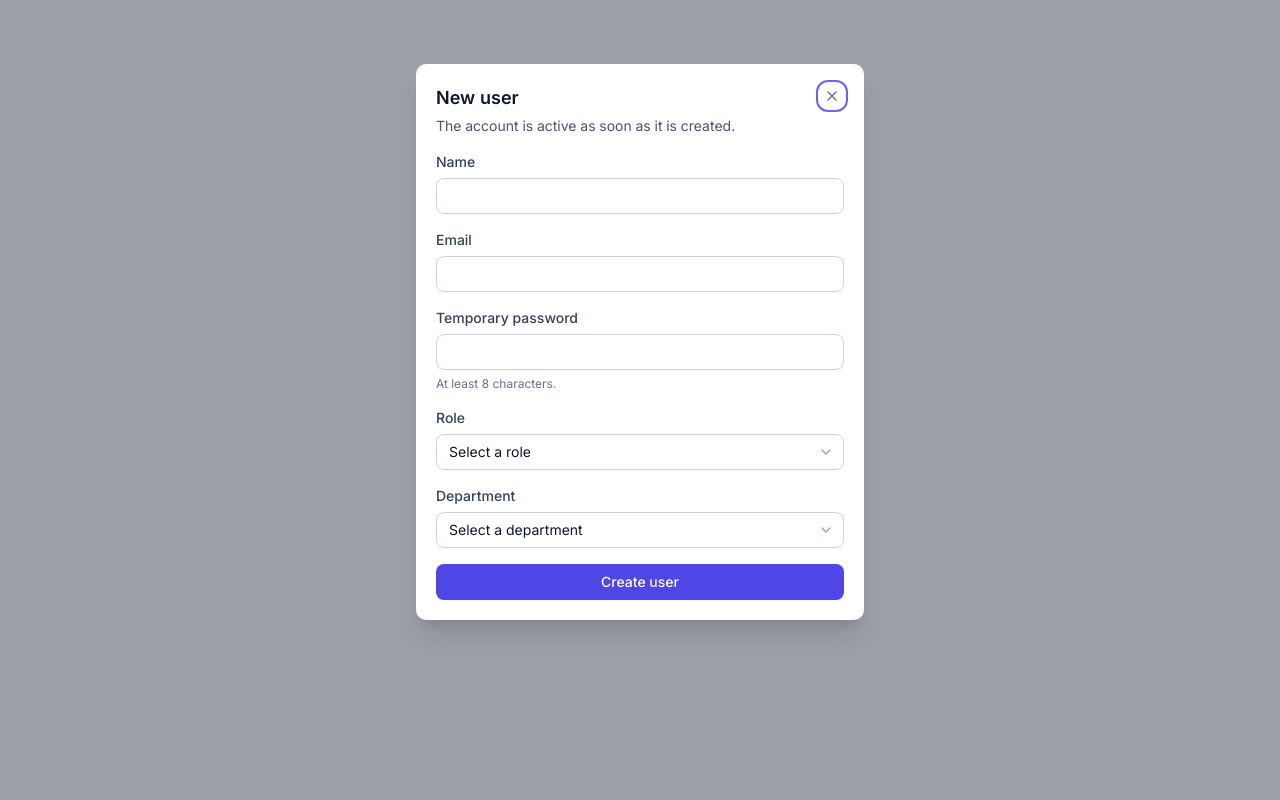
Test case: CreateUserModal › refuses an empty submission and names every missing field
This screenshot has width=1280, height=800.
Click the button "Create user".
click(640, 582)  # box [436, 564, 844, 600]
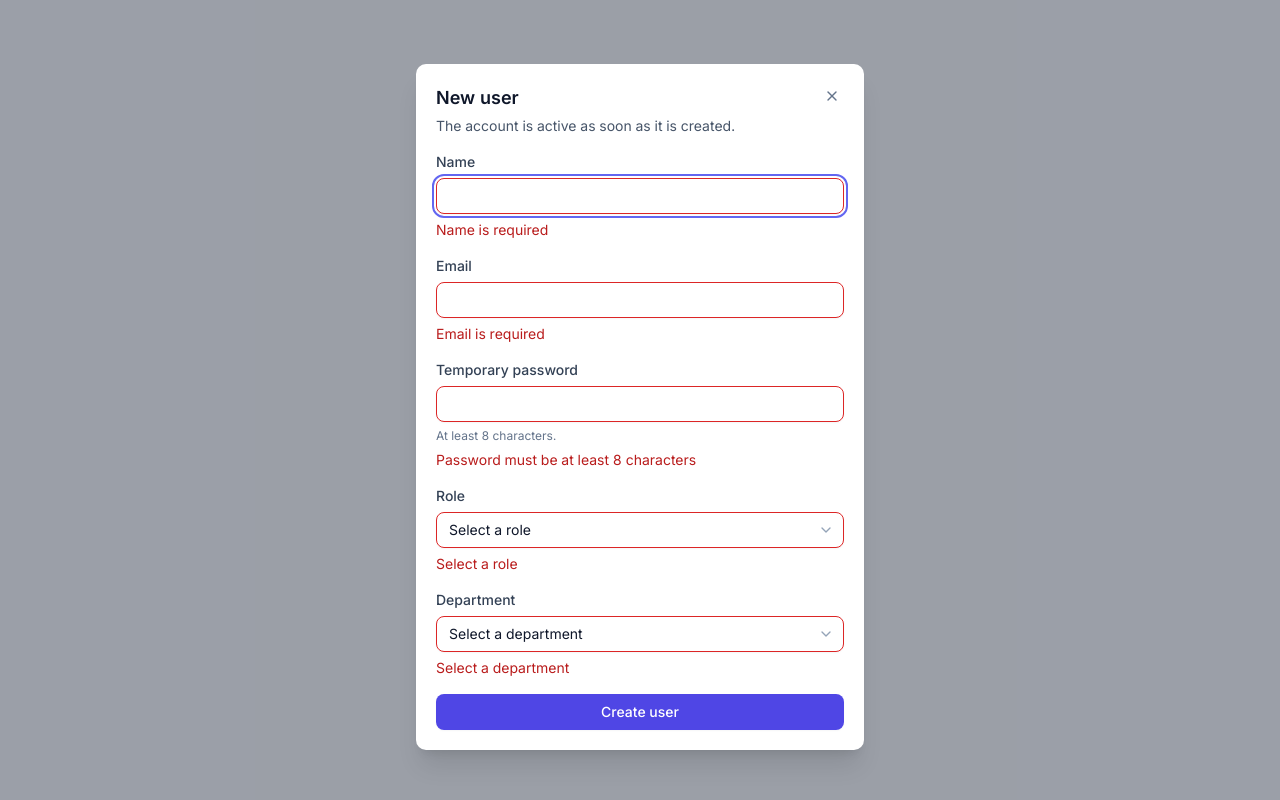
Expected: the text "Name is required" is shown, [436, 221, 548, 238]
Expected: the text "Email is required" is shown, [436, 325, 545, 342]
Expected: the text "Password must be at least 8 characters" is shown, [436, 451, 696, 468]
